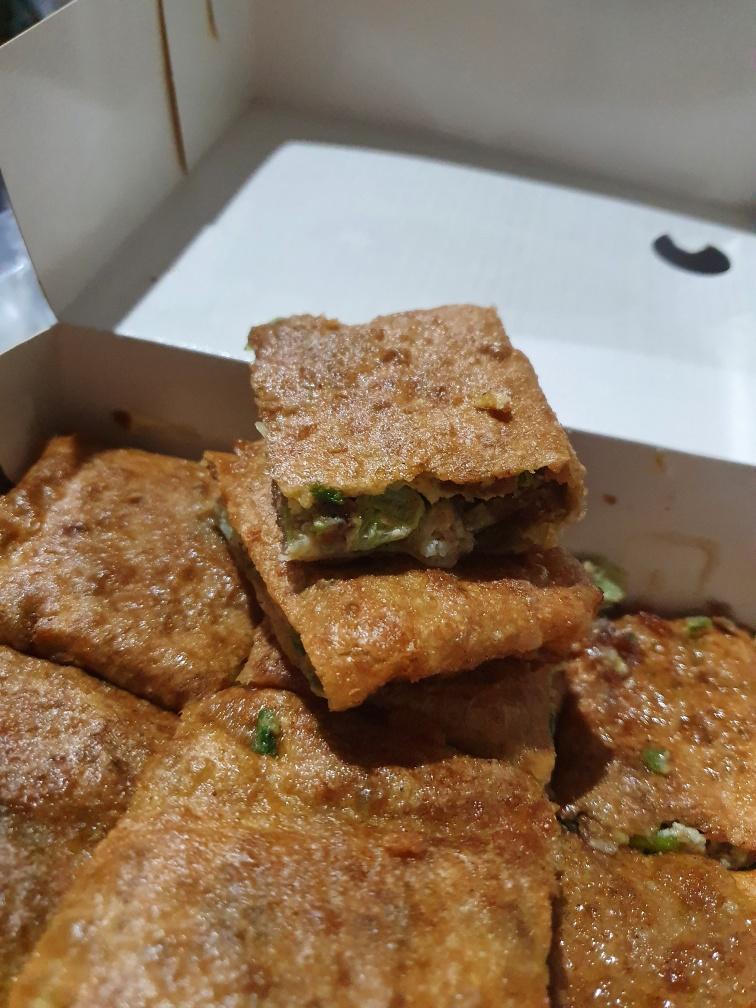martabak telor: (23, 720, 544, 1008), (207, 420, 611, 666), (245, 307, 593, 559), (7, 418, 244, 710), (561, 616, 756, 814)
